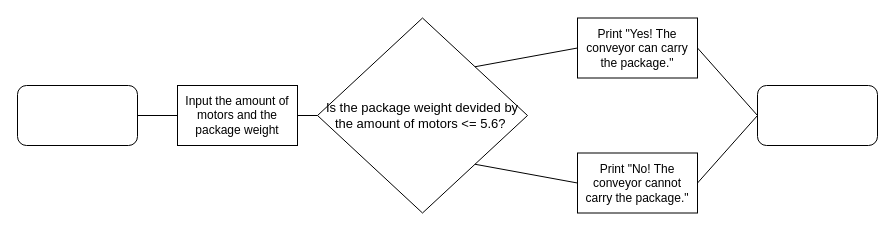
The diagram is 895 pixels wide and 230 high, and some of its shapes have lost their labels. Here are the shapes that lost their labels. From the top down, the centre of each, then its label:
(77,115): start
(817,115): end
